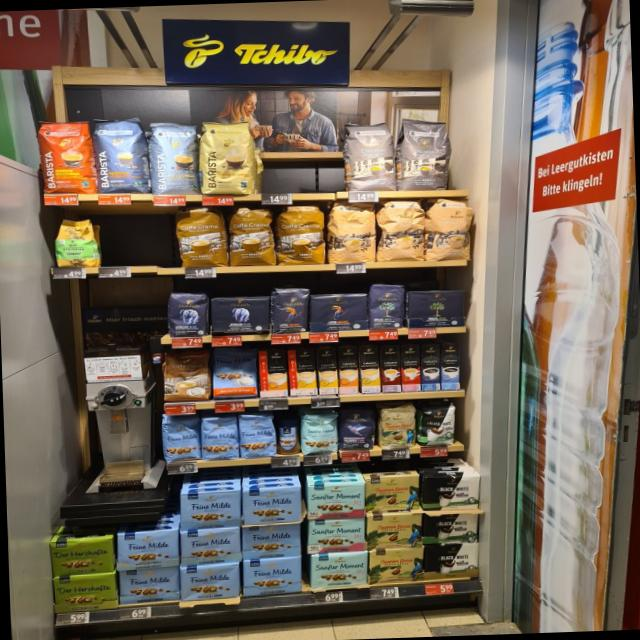AB Bohne: (165, 290, 210, 338)
AB Gemahlen: (208, 296, 272, 334)
Athiopien Bohne: (51, 216, 101, 268)
BM Bohne: (364, 282, 408, 329)
BM Gemahlen: (405, 288, 467, 328)
BW Bohne: (416, 400, 458, 447)
BW Gemahlen: (421, 474, 480, 512), (421, 510, 480, 546), (422, 542, 479, 579)
Barista CB: (196, 118, 256, 196)
Barista CC: (147, 120, 203, 198)
Barista Espresso: (89, 115, 152, 197)
Barista Kolumbien: (33, 119, 98, 195)
C Fino Bohne: (338, 410, 377, 450)
CC Mild: (420, 195, 474, 262), (372, 199, 426, 263), (325, 201, 377, 266)
CC Vollmundig: (158, 347, 214, 402)
CC Vollmundig 36 Pads: (172, 205, 228, 269), (274, 202, 329, 267), (225, 206, 278, 268)
Colombia BB Bohne: (374, 402, 418, 449)
Colombia BB Gemahlen: (363, 512, 424, 549), (366, 546, 425, 583), (362, 475, 421, 511)
Empty Shelf: (262, 118, 316, 192), (102, 214, 158, 266)
Espresso M Art: (337, 119, 398, 192), (393, 115, 452, 190)
FM 36 Pads: (210, 346, 259, 398)
FM Bohne: (198, 414, 240, 461), (161, 414, 202, 461), (236, 413, 278, 458)
FM Gemahlen: (176, 488, 244, 528), (112, 530, 180, 568), (240, 556, 304, 596), (175, 562, 241, 600), (241, 485, 303, 525), (179, 527, 243, 564), (118, 566, 180, 602), (240, 524, 302, 559)
FM Instant: (273, 418, 302, 454)
Herzhatfe Mundig: (51, 571, 119, 613), (48, 536, 116, 577)
LG Bohne: (268, 284, 310, 333)
LG Gemahlen: (306, 292, 369, 334)
SM Bohne: (298, 408, 340, 452)
SM Gemahlen: (305, 481, 366, 520), (304, 517, 368, 554), (306, 550, 368, 588)
Simo CCMild: (286, 346, 318, 397)
Simo CCMild bigpack: (316, 346, 340, 396)
Simo CCVollmundig: (257, 347, 289, 398)
Simo CCVollmundig bigpack: (336, 344, 360, 394)
Simo Decaff: (357, 344, 381, 394)
Simo Es Elegant: (399, 343, 421, 392)
Simo Es Kraft: (378, 344, 401, 393)
Simo Kaffee Kraft: (419, 344, 441, 390)
Simo Kaffee Mild: (437, 341, 461, 391)
